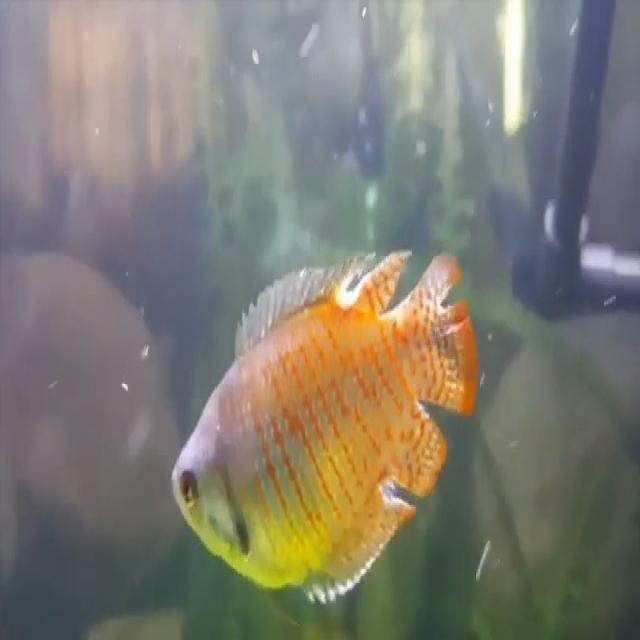fish: (168, 247, 484, 605)
